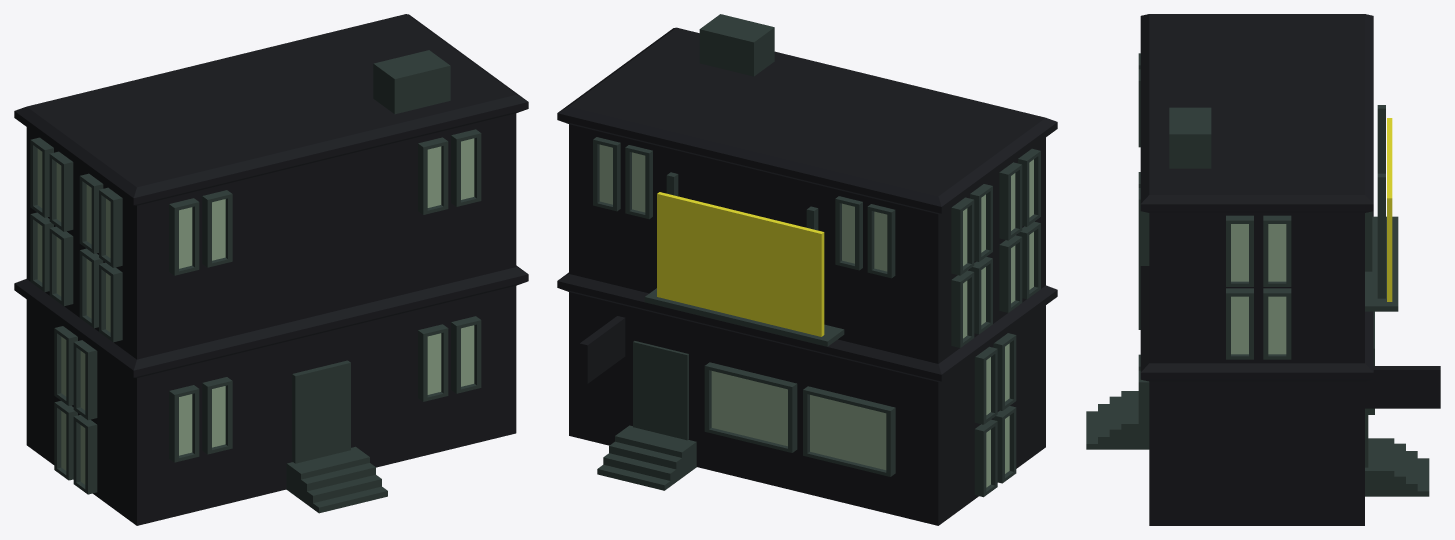
The model's file is Shop.FBX.
The picture shows the model from 3 angles, left to right: view 1: azimuth 30°, elevation 25°; view 2: azimuth 150°, elevation 25°; view 3: azimuth 270°, elevation 25°; orthographic projection. The views are drawn at different scales.
Parts seen in each view (by area): view 1: Box037, Box041, Box052, Box051, Box042, Box053, Object005, Box043; view 2: Box037, Box048, Box039, Box041, Box046, Box042, Box040, Object004, Box043, Box054, Box047; view 3: Box037, Box038, Object004, Box054, Object005, Box043, Box047, Box049, Box048, Box052, Box051, Box050 (+1 smaller).
Part boxes in pixels (x1=…): Box037: x1=14, y1=14, x2=528, y2=525; Box041: x1=30, y1=137, x2=122, y2=342; Box052: x1=169, y1=316, x2=481, y2=462; Box051: x1=169, y1=129, x2=481, y2=275; Box042: x1=54, y1=326, x2=97, y2=494; Box053: x1=292, y1=360, x2=350, y2=463; Object005: x1=286, y1=446, x2=387, y2=513; Box043: x1=373, y1=50, x2=450, y2=114; Box037: x1=557, y1=27, x2=1057, y2=525; Box048: x1=657, y1=192, x2=824, y2=336; Box039: x1=704, y1=362, x2=895, y2=476; Box041: x1=951, y1=148, x2=1040, y2=347; Box046: x1=593, y1=137, x2=895, y2=278; Box042: x1=974, y1=333, x2=1016, y2=497; Box040: x1=633, y1=341, x2=688, y2=440; Object004: x1=597, y1=425, x2=696, y2=490; Box043: x1=699, y1=14, x2=774, y2=76; Box054: x1=579, y1=316, x2=625, y2=383; Box047: x1=644, y1=288, x2=844, y2=346; Box037: x1=1140, y1=14, x2=1373, y2=525; Box038: x1=1226, y1=215, x2=1291, y2=359; Object004: x1=1365, y1=438, x2=1429, y2=496; Box054: x1=1365, y1=366, x2=1440, y2=408; Object005: x1=1086, y1=391, x2=1149, y2=449; Box043: x1=1169, y1=107, x2=1211, y2=168; Box047: x1=1365, y1=216, x2=1398, y2=311; Box049: x1=1377, y1=173, x2=1385, y2=298; Box048: x1=1387, y1=118, x2=1392, y2=301; Box052: x1=1138, y1=266, x2=1149, y2=448; Box051: x1=1138, y1=53, x2=1149, y2=265; Box050: x1=1377, y1=105, x2=1385, y2=173.
Size of the model in its own units: 5.04 by 4.51 by 3.97.
